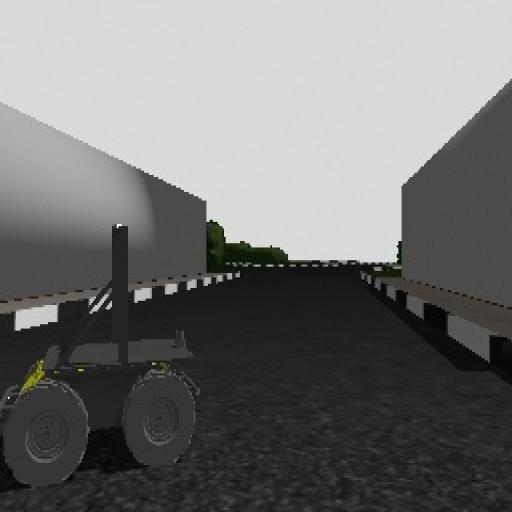huskya200: (2, 216, 208, 503)
